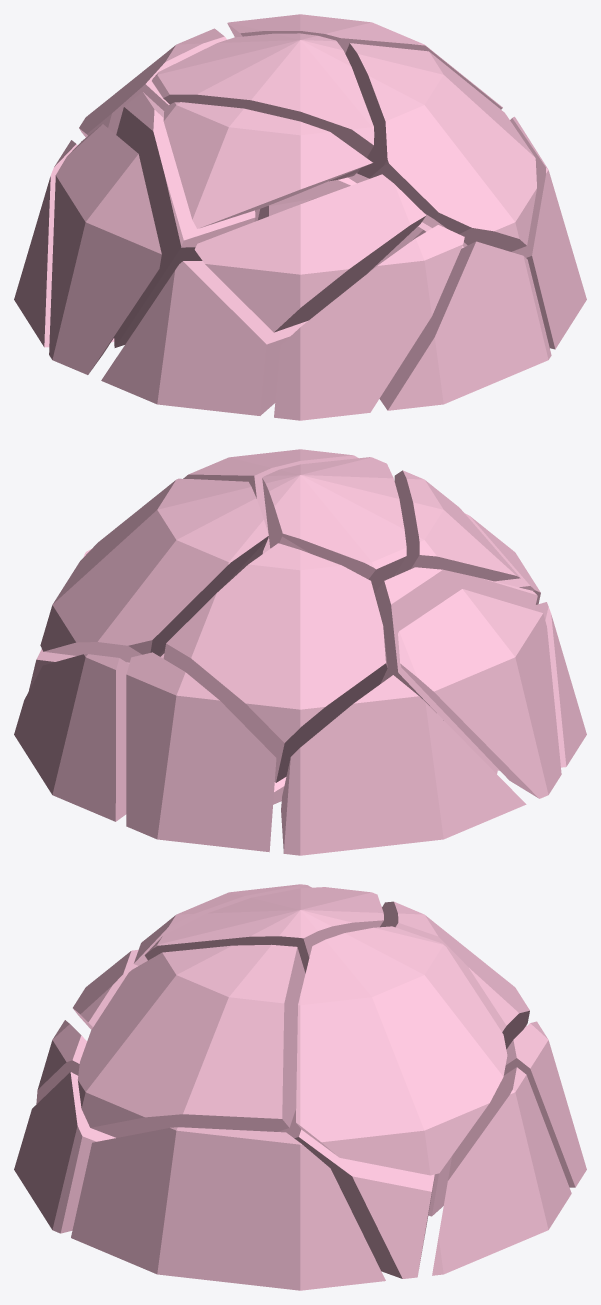
The model's file is bush_3.fbx.
The picture shows the model from 3 angles, top to bottom: view 1: azimuth 30°, elevation 25°; view 2: azimuth 150°, elevation 25°; view 3: azimuth 270°, elevation 25°; orthographic projection.
Parts seen in each view (by area): view 1: bush_3; view 2: bush_3; view 3: bush_3.
Part boxes in pixels (x1,y1,x2,y2): bush_3: [14, 14, 586, 420]; bush_3: [14, 449, 586, 855]; bush_3: [14, 884, 586, 1290].
Size of the model in its own units: 133 by 66.53 by 133.
